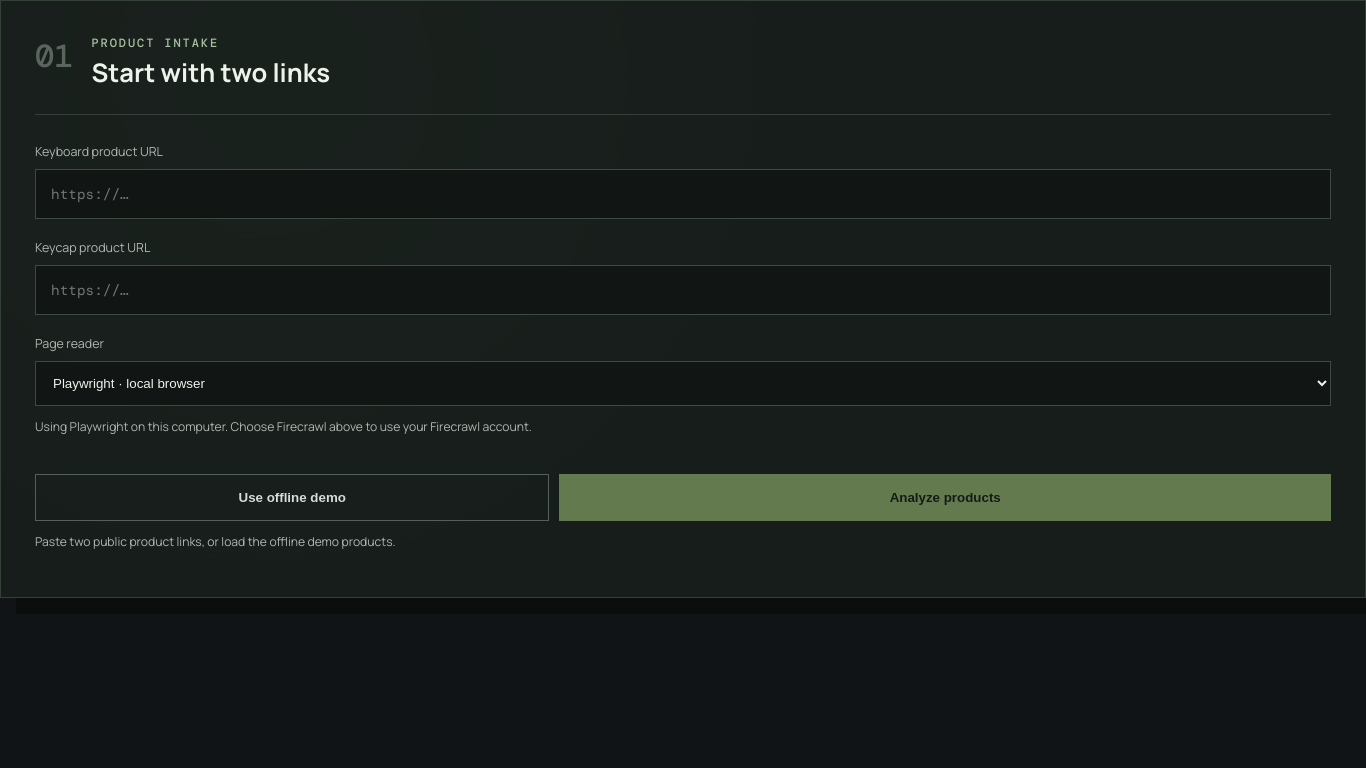
Test: shows review evidence without replacing the current workbench
This screenshot has width=1366, height=768.
Step 1. Type "https://shop.example/board" into the field labelled "Keyboard product URL" → x=683, y=194, box [35,169,1331,219]
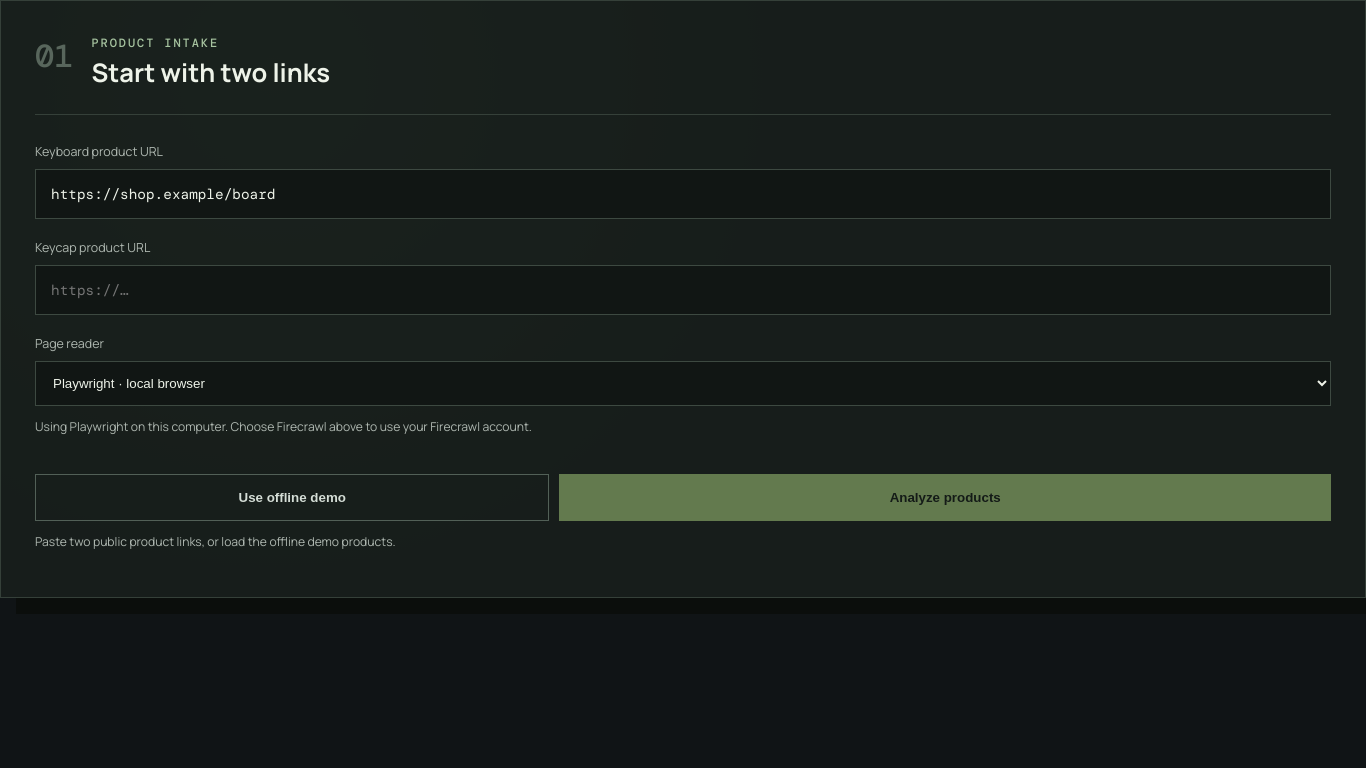
Step 2. Type "https://shop.example/caps" into the field labelled "Keycap product URL" → x=683, y=290, box [35,265,1331,315]
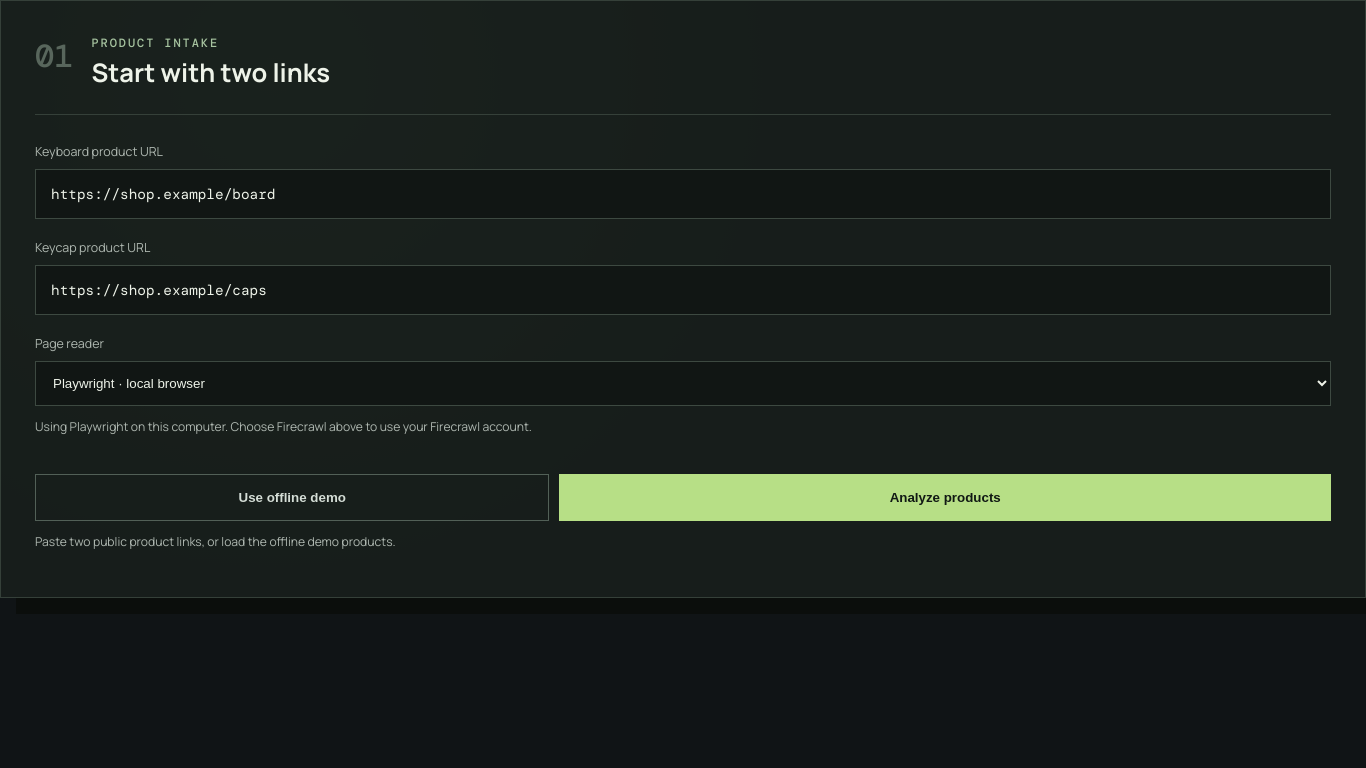
Step 3. Click the button "Analyze products" → x=945, y=497, box [559,474,1331,520]
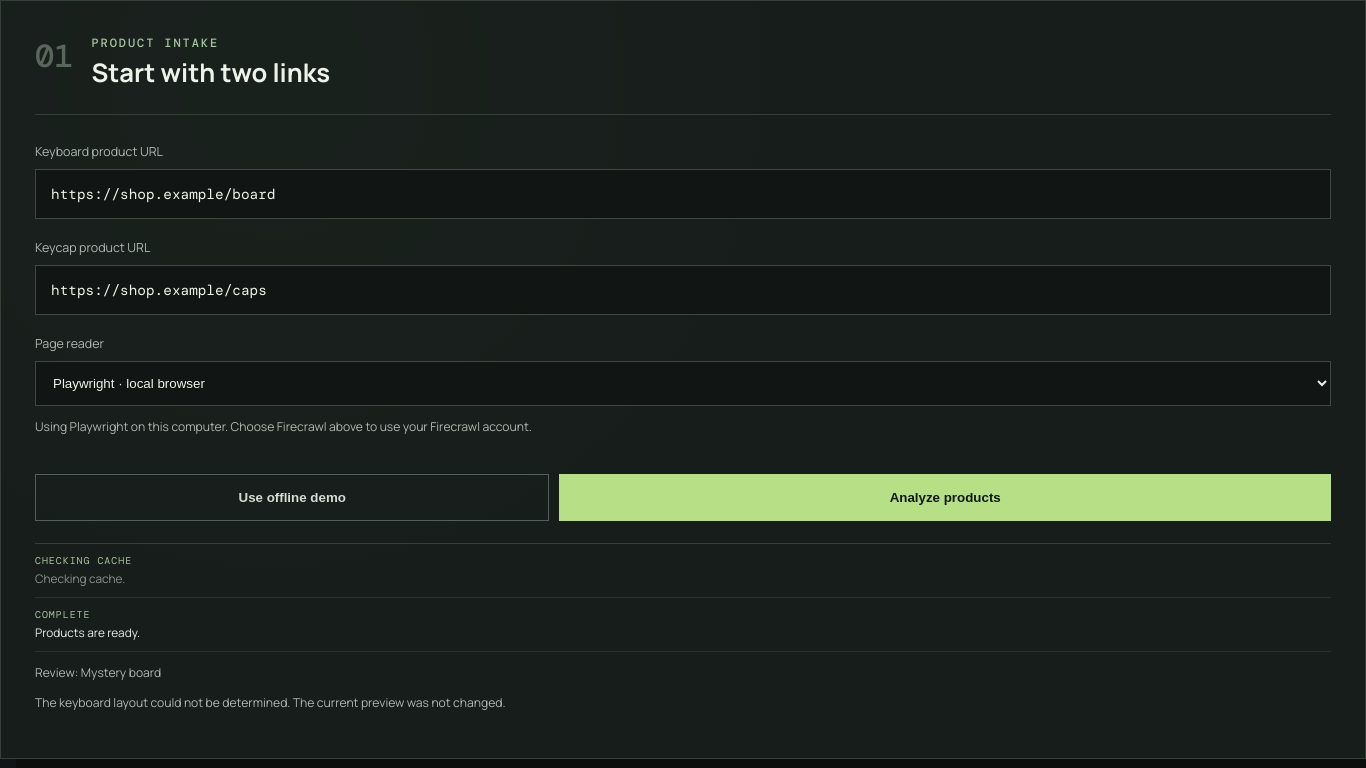
Expected: the text "Review: Mystery board" is shown, [35,664,161,681]
